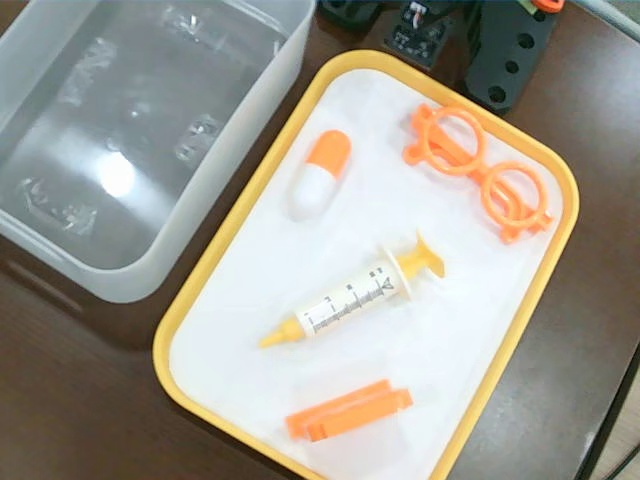pill: (289, 130, 354, 221)
syringe: (261, 230, 445, 349)
